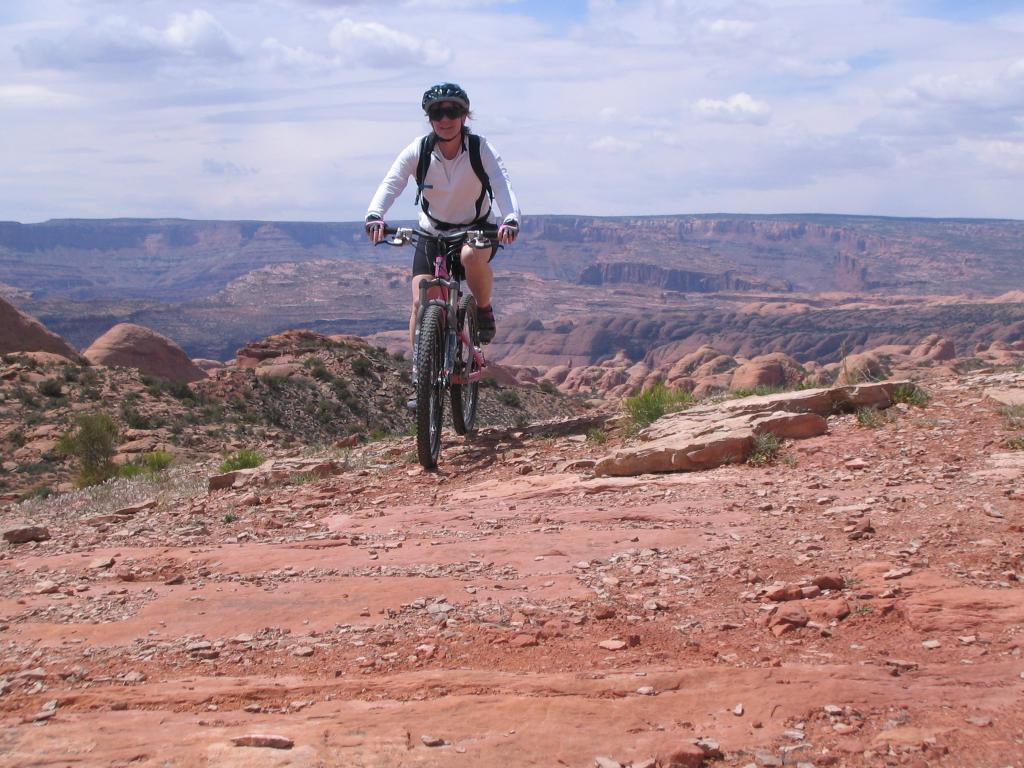Bike_toward: (341, 201, 522, 471)
